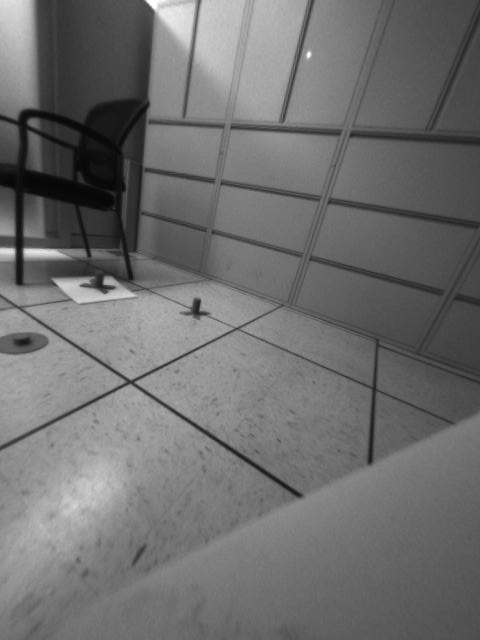X: (82, 265, 115, 299), (182, 291, 208, 320)
